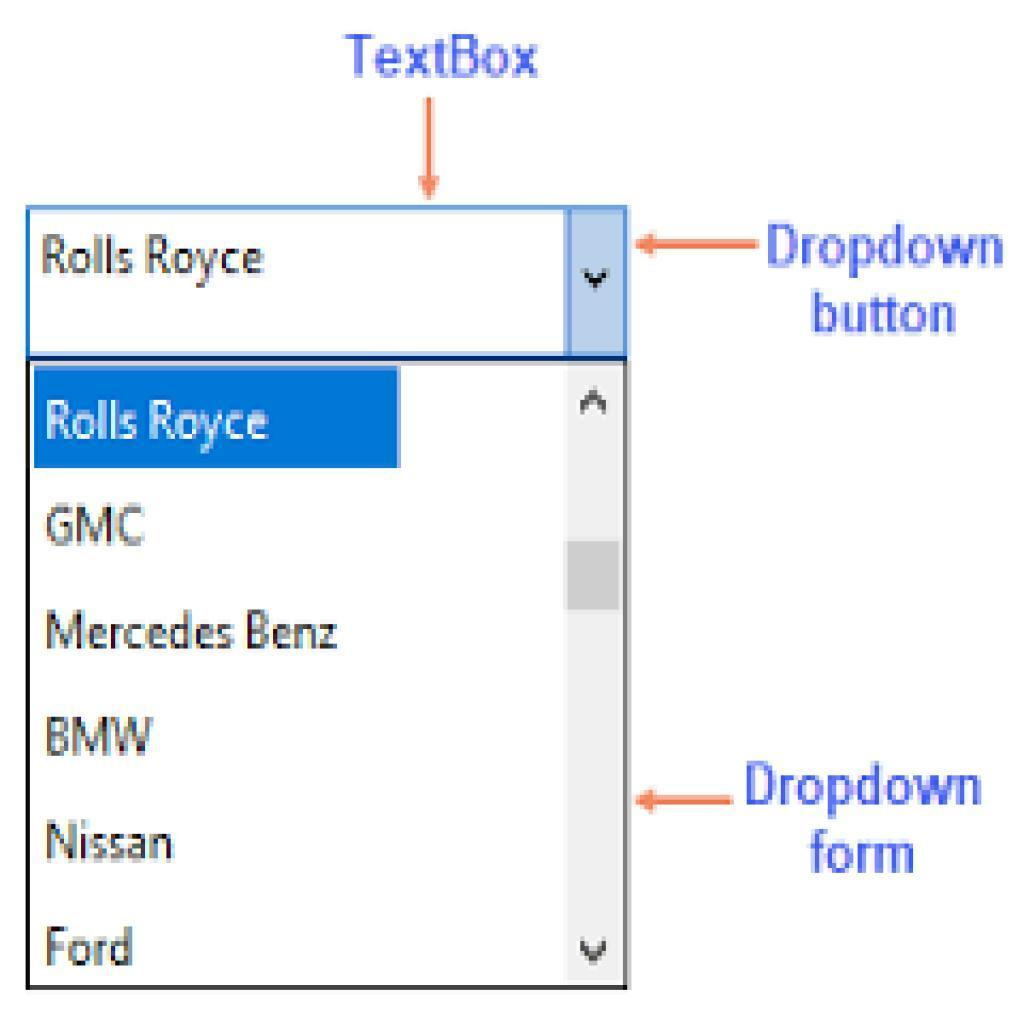button: (35, 368, 399, 468)
dropdown: (26, 209, 630, 359)
label: (740, 755, 990, 882), (765, 218, 1008, 345), (45, 608, 340, 657), (338, 30, 540, 85), (44, 815, 177, 869), (44, 500, 153, 556), (45, 712, 156, 761), (47, 924, 138, 974)
